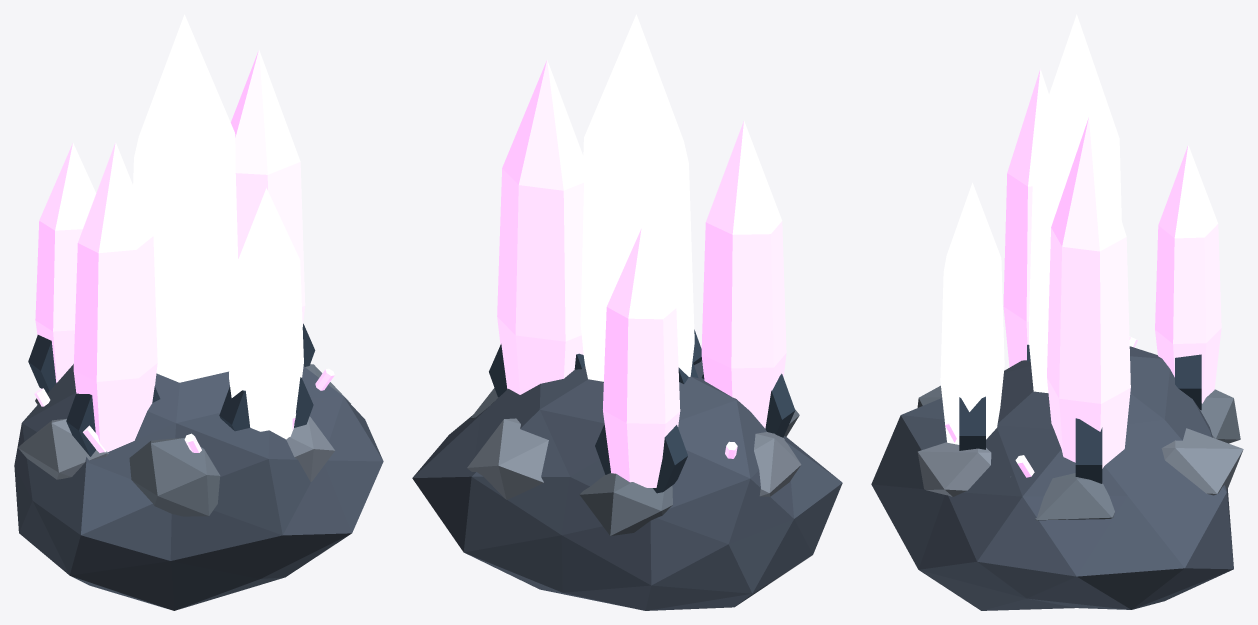
File: ore_Terbium.glb
3 views of the same model, side by side, from view 1: azimuth 30°, elevation 25°; view 2: azimuth 150°, elevation 25°; view 3: azimuth 270°, elevation 25° (orthographic). The views are drawn at different scales.
Parts seen in each view (by area): view 1: root_fractured_asteroid, crystal_main_0, crystal_main_1, crystal_main_3, crystal_main_2, crystal_main_4, rock_armor_2, rock_armor_3, rock_armor_1, crystal_socket_3, crystal_socket_1, crystal_socket_4; view 2: root_fractured_asteroid, crystal_main_0, crystal_main_2, crystal_main_1, crystal_main_4, rock_armor_5, rock_armor_4, rock_armor_3, crystal_socket_4, crystal_socket_1, crystal_socket_2; view 3: root_fractured_asteroid, crystal_main_2, crystal_main_0, crystal_main_3, crystal_main_4, crystal_main_1, rock_armor_5, rock_armor_1, rock_armor_0, crystal_socket_2, rock_armor_4, crystal_socket_3 (+1 smaller).
Part boxes in pixels (x1,y1,x2,y2): root_fractured_asteroid: (14,364,383,610); crystal_main_0: (133,14,238,382); crystal_main_1: (73,142,157,451); crystal_main_3: (229,188,303,439); crystal_main_2: (230,50,305,326); crystal_main_4: (35,143,96,382); rock_armor_2: (129,437,220,516); rock_armor_3: (18,418,108,479); rock_armor_1: (286,416,335,481); crystal_socket_3: (219,377,313,431); crystal_socket_1: (66,386,160,456); crystal_socket_4: (28,335,56,393); root_fractured_asteroid: (412,360,842,610); crystal_main_0: (580,14,694,381); crystal_main_2: (497,60,583,394); crystal_main_1: (701,121,786,428); crystal_main_4: (603,228,680,487); rock_armor_5: (467,418,548,499); rock_armor_4: (580,473,672,535); rock_armor_3: (754,432,801,496); crystal_socket_4: (595,424,687,493); crystal_socket_1: (701,373,795,437); crystal_socket_2: (489,344,584,397); root_fractured_asteroid: (871,346,1233,610); crystal_main_2: (1047,117,1130,468); crystal_main_0: (1029,14,1121,392); crystal_main_3: (940,182,1004,444); crystal_main_4: (1155,145,1221,403); crystal_main_1: (1003,69,1048,367); rock_armor_5: (1161,428,1243,495); rock_armor_1: (917,442,991,496); rock_armor_0: (1010,473,1114,520); crystal_socket_2: (1075,418,1102,483); rock_armor_4: (1200,389,1240,443); crystal_socket_3: (959,396,985,450).
Bounding box in the file's own units: 1.66 × 2.61 × 1.54.
